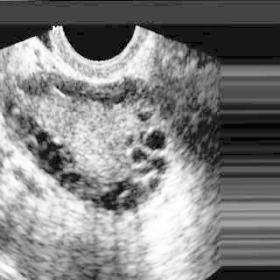PCOS: (146, 131, 168, 153), (58, 170, 82, 188), (98, 192, 120, 211), (42, 138, 60, 160), (47, 156, 64, 174), (111, 180, 131, 194), (34, 128, 50, 145), (122, 197, 138, 212), (150, 158, 166, 172), (131, 148, 146, 162), (148, 179, 161, 190)
